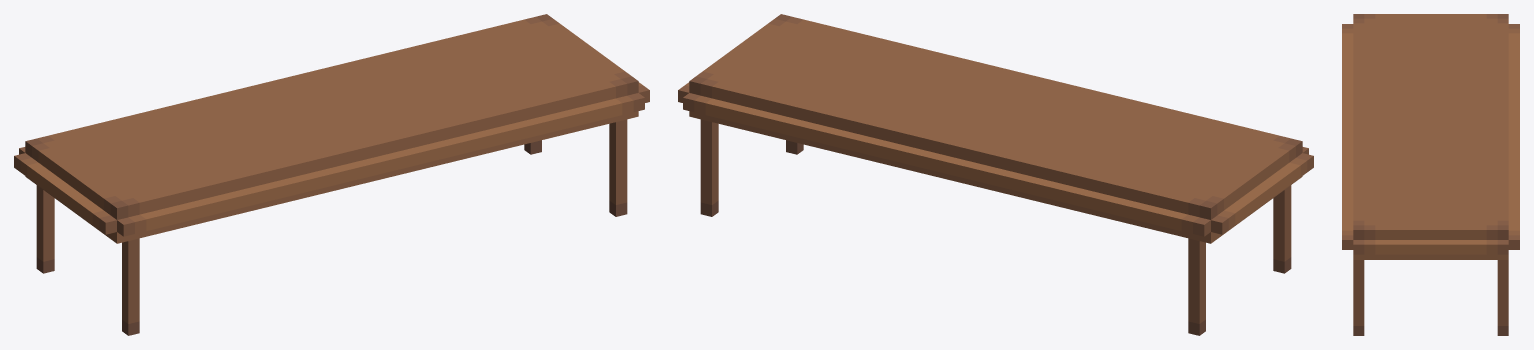
The model's file is Interior_Furniture_Table_Long_Type01_3x1.obj.
The picture shows the model from 3 angles, left to right: view 1: azimuth 30°, elevation 25°; view 2: azimuth 150°, elevation 25°; view 3: azimuth 270°, elevation 25°; orthographic projection. The views are drawn at different scales.
Size of the model in its own units: 4.8 by 1.1 by 1.6.
1 material, 1 textured.
